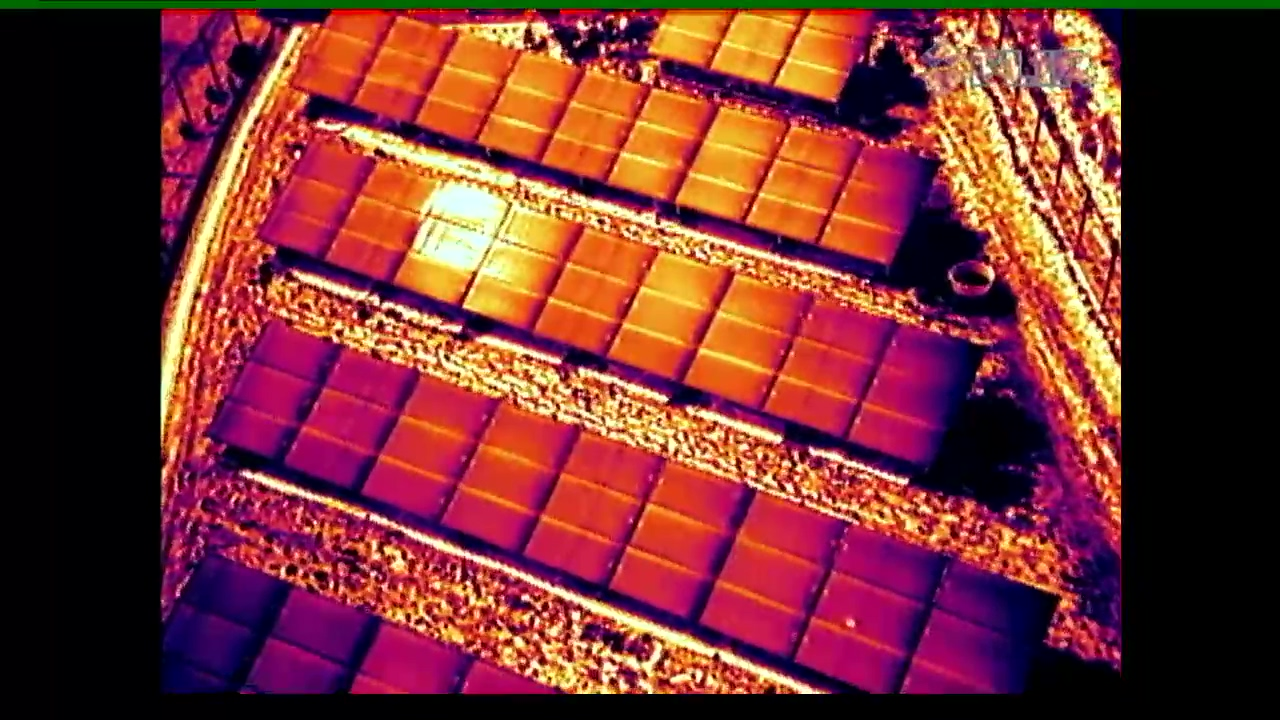hotspot: (788, 518, 945, 693)
